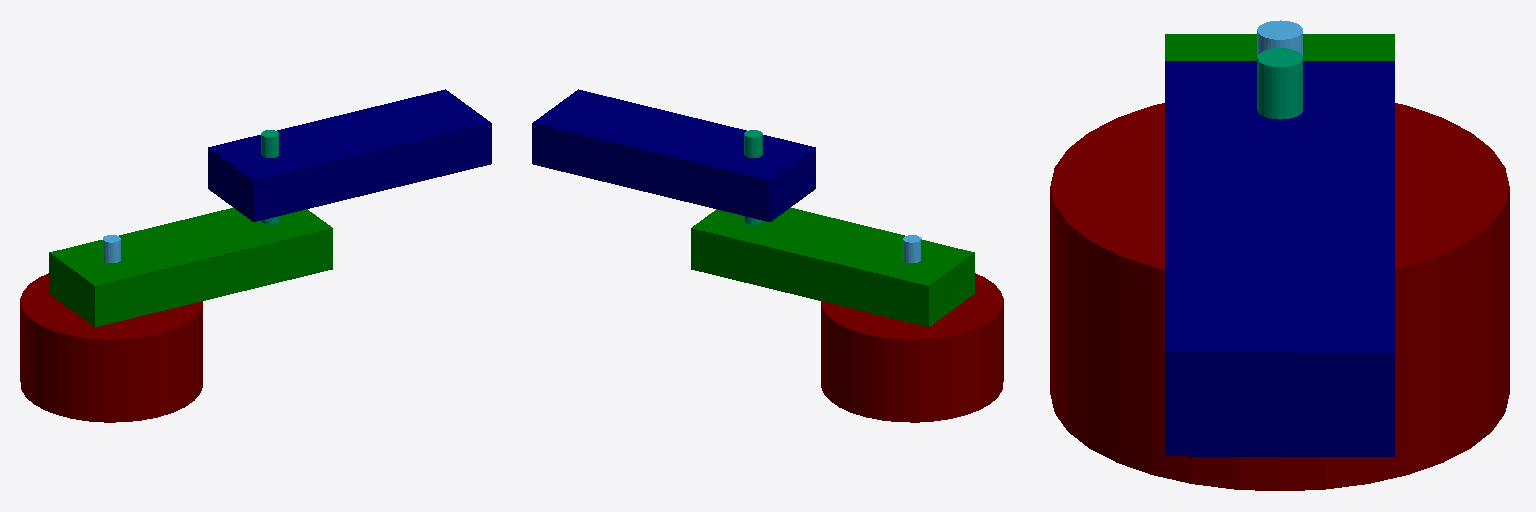
robot.urdf — Rotations Device:
<robot name="Rotations Device">
	<link name="base_link">
		<visual name="">
			<origin xyz="0 0 0.05" rpy="0 0 0"/>
			<geometry>
				<cylinder radius="0.1" length="0.1"/>
			</geometry>
			<material>
			<color rgba="0.5 0 0 1"/>
			</material>
		</visual>

		<collision name="">
			<origin xyz="0 0 0.05" rpy="0 0 0"/>
			<geometry>
				<cylinder radius="0.1" length="0.1"/>
			</geometry>
		</collision>

		<inertial>
			<mass value="5"/>
		</inertial>
	</link>
	
	<link name="arm1">
	
		<visual name="arm">
			<origin xyz="0.1 0.025 0" rpy="0 0 0"/>
			<geometry>
				<box size="0.3 0.05 0.1"/>
			</geometry>
			<material>
			<color rgba="0 0.5 0 1"/>
			</material>
		</visual>
		
		<visual name="shaft">
			<origin xyz="0 0 0" rpy="1.57 0 0"/>
			<geometry>
			<cylinder radius="0.01" length="0.15"/>
			</geometry>
			<material name="">
			
			</material>
		</visual>


		<collision name="">
			<origin xyz="0.1 0.025 0" rpy="0 0 0"/>
			<geometry>
				<box size="0.3 0.05 0.1"/>
			</geometry>
		</collision>

		<inertial>
			<mass value="0.1"/>
		</inertial>
	</link>

	<joint name="rot1" type="revolute">
		<origin xyz="0 0 0.1" rpy="1.57 0 0"/>
		<parent link="base_link"/>
		<child link="arm1"/>
		<axis xyz="0.0 1.0 0.0"/>
		<limit lower="-1.57" upper="1.57" effort="10.0" velocity="2.0"/>
	</joint>
	
	<link name="arm2">
	
		<visual name="arm">
			<origin xyz="0.1 0.025 0" rpy="0 0 0"/>
			<geometry>
				<box size="0.3 0.05 0.1"/>
			</geometry>
			<material>
			<color rgba="0 0 0.5 1"/>
			</material>
		</visual>
		
		<visual name="shaft">
			<origin xyz="0 0 0" rpy="1.57 0 0"/>
			<geometry>
			<cylinder radius="0.01" length="0.15"/>
			</geometry>
			<material name="">
			
			</material>
		</visual>


		<collision name="">
			<origin xyz="0.1 0.025 0" rpy="0 0 0"/>
			<geometry>
				<box size="0.3 0.05 0.1"/>
			</geometry>
		</collision>

		<inertial>
			<mass value="0.01"/>
		</inertial>

	</link>
	
	<joint name="rot2" type="continuous">
		<origin xyz="0.2 0.08 0" rpy="0 0 0"/>
		<parent link="arm1"/>
		<child link="arm2"/>
		<axis xyz="0.0 1.0 0.0"/>
		<limit effort="1.0" velocity="5.0"/>
	</joint>
</robot>

--- What the picture shows (computed from the rendered views, not written in the file) ---
3 views of the same robot in one strip: view 1: azimuth 30°, elevation 25°; view 2: azimuth 150°, elevation 25°; view 3: azimuth 270°, elevation 25° (orthographic).
Model Rotations Device with 3 links and 2 joints (1 revolute, 1 continuous), rooted at base_link, posed every joint at zero.
Visible links, largest first — view 1: arm2, arm1, base_link; view 2: arm2, arm1, base_link; view 3: arm2, base_link, arm1.
Boxes of the visible links, x1,y1,x2,y2 form: arm2: [208, 89, 491, 224]; arm1: [49, 208, 332, 326]; base_link: [20, 273, 202, 422]; arm2: [532, 89, 815, 224]; arm1: [691, 208, 974, 326]; base_link: [821, 273, 1003, 422]; arm2: [1165, 48, 1394, 456]; base_link: [1050, 103, 1509, 490]; arm1: [1165, 20, 1394, 60].
Size in the robot's own frame: 0.55 by 0.2 by 0.255 metres.
Geometry: primitives only (box / cylinder / sphere), no mesh files.